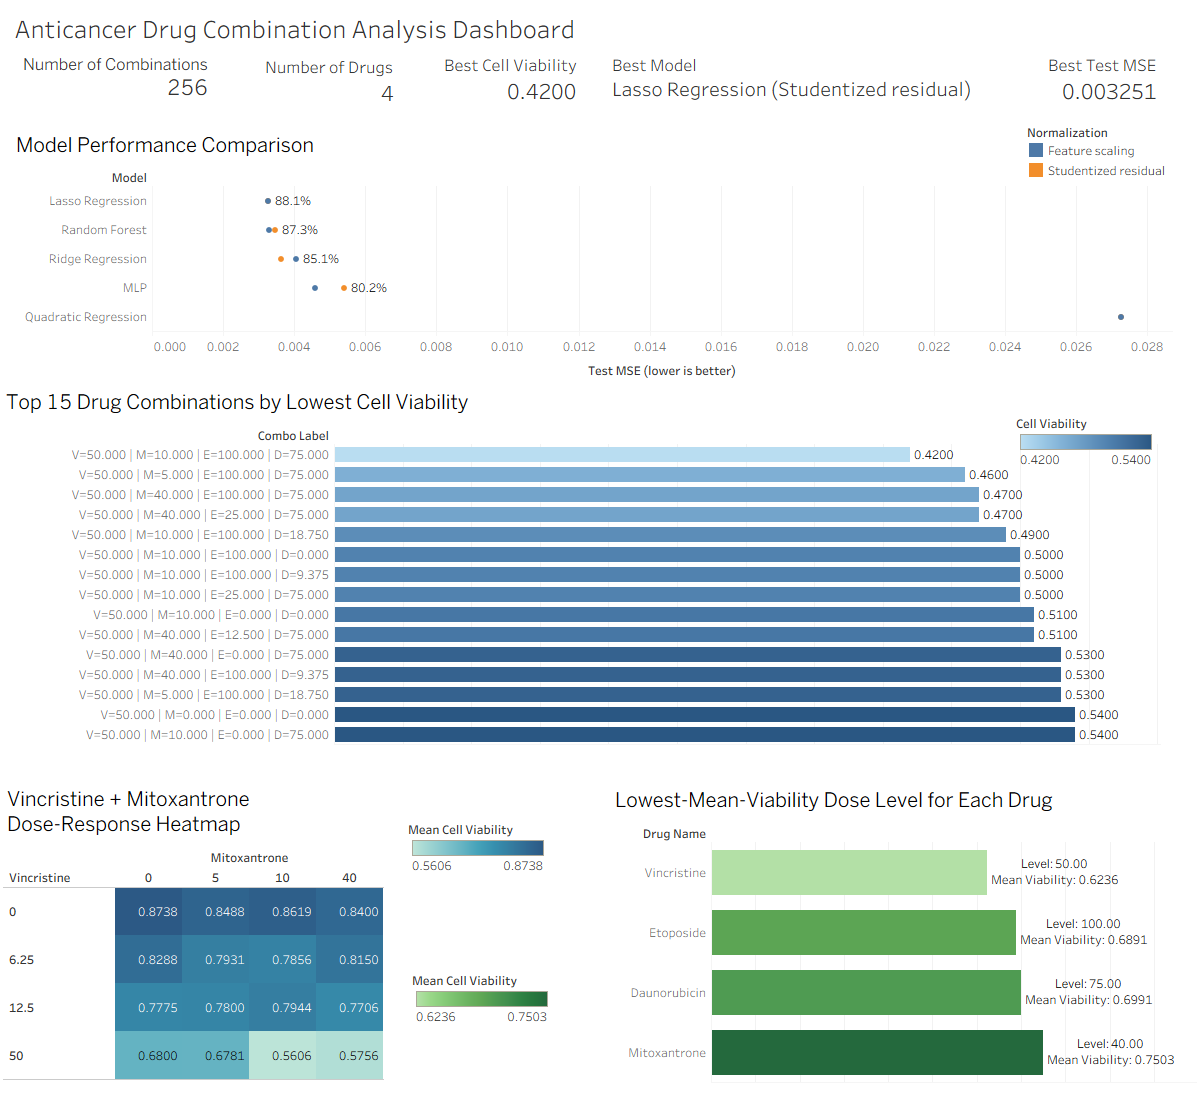

The page's visual inventory and layout, read from the dashboard file:
{"tool":"tableau","page":{"name":"Anticancer Drug Combination Analysis Dashboard","canvas":[1200,1100],"ordinal":0},"visuals":[{"type":"title","box":[8,8,1184,42]},{"type":"worksheet","title":"KPI - Combinations","mark":"Automatic","box":[8,50,245,72]},{"type":"worksheet","title":"KPI - Drugs","mark":"Automatic","box":[253,50,164,72]},{"type":"worksheet","title":"KPI - Best Viability","mark":"Automatic","box":[417,50,187,72]},{"type":"worksheet","title":"KPI -Best Model","mark":"Automatic","box":[604,50,433,72]},{"type":"worksheet","title":"KPI -Best Test MSE","mark":"Automatic","box":[1037,50,128,72]},{"type":"legend","title":"Model Comparison","param":"[federated.1luysi80bdml3a1akc9lh0udgveb].[none:normalization:nk]","box":[1026,121.9,144,70.6]},{"type":"worksheet","title":"Model Comparison","mark":"Circle","rows":["model"],"cols":["test_mse"],"box":[8,122,1184,268]},{"type":"worksheet","title":"Top Combinations","mark":"Automatic","rows":["combo_label"],"cols":["cell_viability"],"box":[2,383,1195,394]},{"type":"legend","title":"Top Combinations","param":"[federated.1dw9dbq0hlqyse1g2vd7l1oz8ise].[sum:cell_viability:qk]","box":[1016,411,140,58]},{"type":"worksheet","title":"VM Heatmap","mark":"Square","rows":["vincristine"],"cols":["mitoxantrone"],"box":[3,780,580,317]},{"type":"worksheet","title":"Best Drug Levels","mark":"Automatic","rows":["drug_name"],"cols":["mean_cell_viability"],"box":[611,781,585,316]},{"type":"legend","title":"VM Heatmap","param":"[federated.027cpj40mdcm9p1f4azex1mv406d].[sum:mean_cell_viability:qk]","box":[408,817,140,68]},{"type":"legend","title":"Best Drug Levels","param":"[federated.1x84azf1prpmi8147afzw0t5s15s].[sum:mean_cell_viability:qk]","box":[412,968,140,67]}]}

Visuals, with their boxes in screenshot pixels (x1, y1, x2, y2), scaled from the page's 1200x1100 canvas onto the 1200x1100 screenshot:
title: (left=8, top=8, right=1192, bottom=50)
"KPI - Combinations" worksheet: (left=8, top=50, right=253, bottom=122)
"KPI - Drugs" worksheet: (left=253, top=50, right=417, bottom=122)
"KPI - Best Viability" worksheet: (left=417, top=50, right=604, bottom=122)
"KPI -Best Model" worksheet: (left=604, top=50, right=1037, bottom=122)
"KPI -Best Test MSE" worksheet: (left=1037, top=50, right=1165, bottom=122)
"Model Comparison" legend: (left=1026, top=122, right=1170, bottom=192)
"Model Comparison" worksheet (Circle marks): (left=8, top=122, right=1192, bottom=390)
"Top Combinations" worksheet: (left=2, top=383, right=1197, bottom=777)
"Top Combinations" legend: (left=1016, top=411, right=1156, bottom=469)
"VM Heatmap" worksheet (Square marks): (left=3, top=780, right=583, bottom=1097)
"Best Drug Levels" worksheet: (left=611, top=781, right=1196, bottom=1097)
"VM Heatmap" legend: (left=408, top=817, right=548, bottom=885)
"Best Drug Levels" legend: (left=412, top=968, right=552, bottom=1035)
